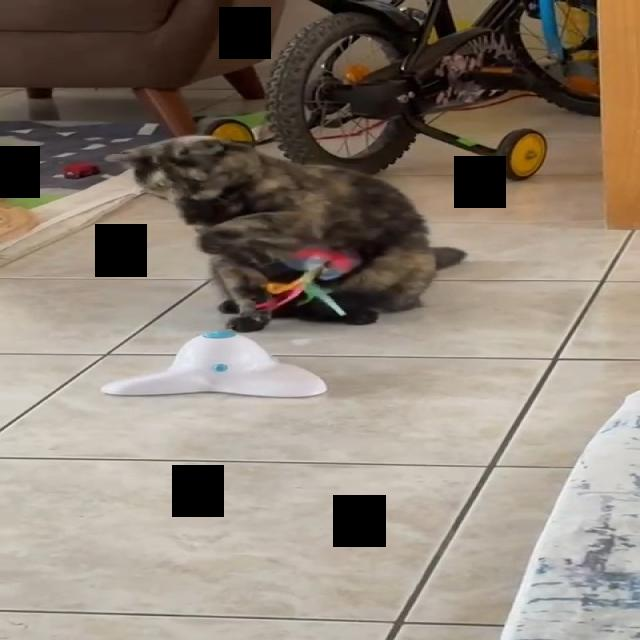authorized: (104, 133, 467, 332)
